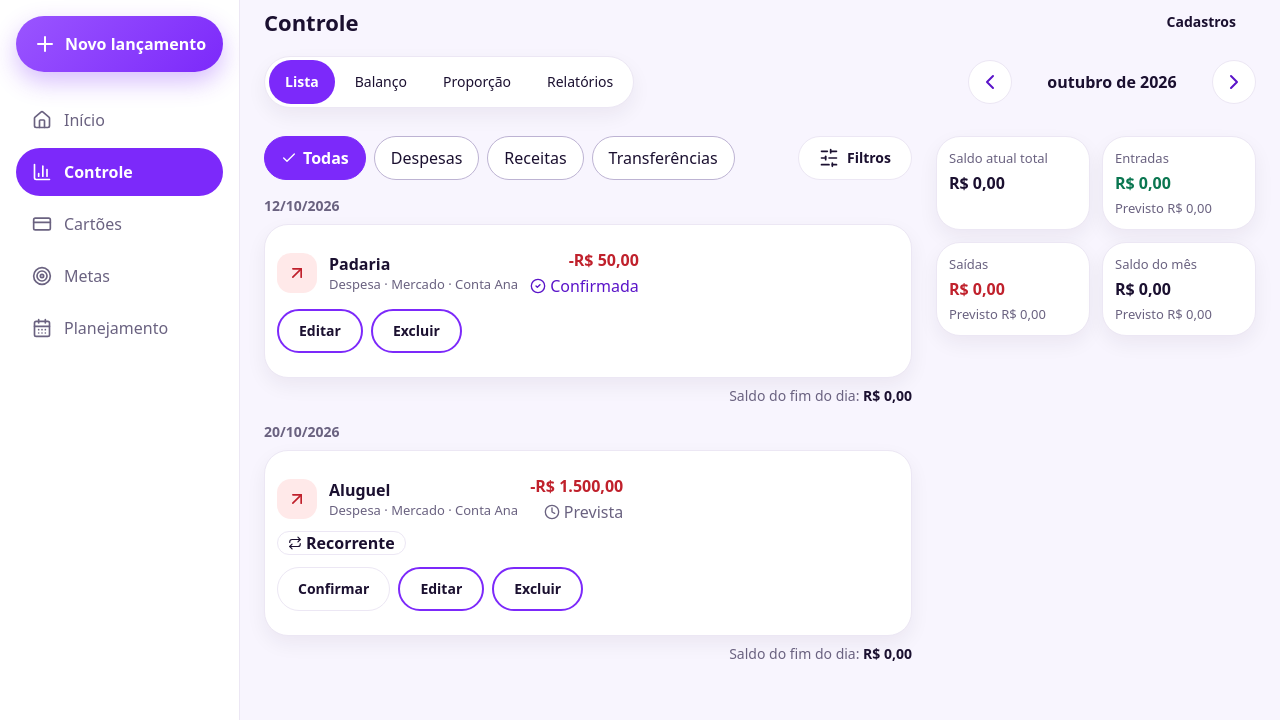
Scenario: alcance perguntado só para recorrente (CA-0.10, CA-3.07) › editar lançamento simples abre o formulário direto, sem a pergunta de alcance
The image size is (1280, 720).
Check: the text "Padaria" is shown, box [329,253,390,275]
What coordinates should you click on to do the following:
click the button "Editar" below "12/10/2026"
I would click on:
 (320, 331)
Its box is [277,309,363,353].
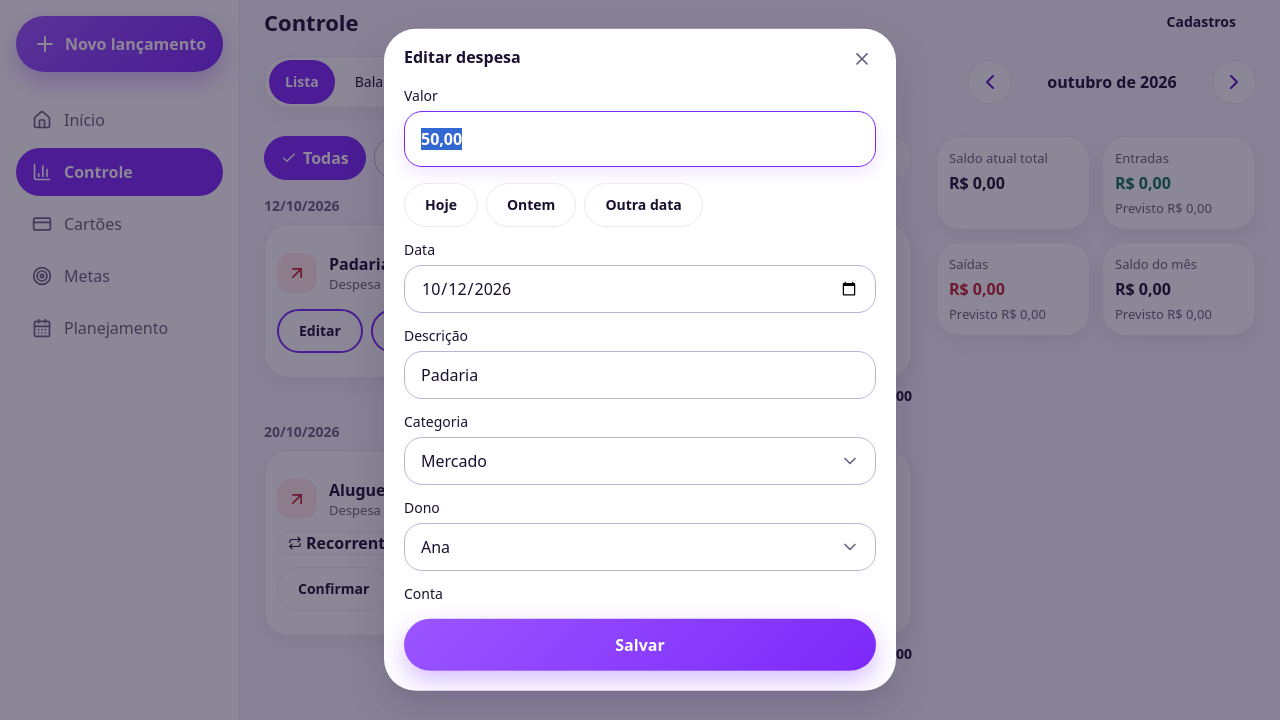
Check: the dialog "Editar despesa" is shown, box [384,29,896,691]
